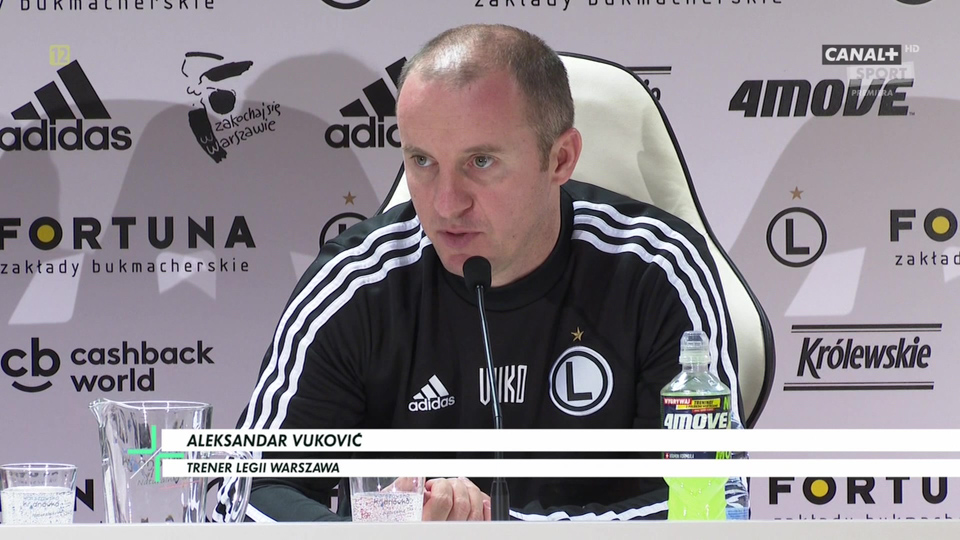Adidas: (407, 373, 456, 412)
